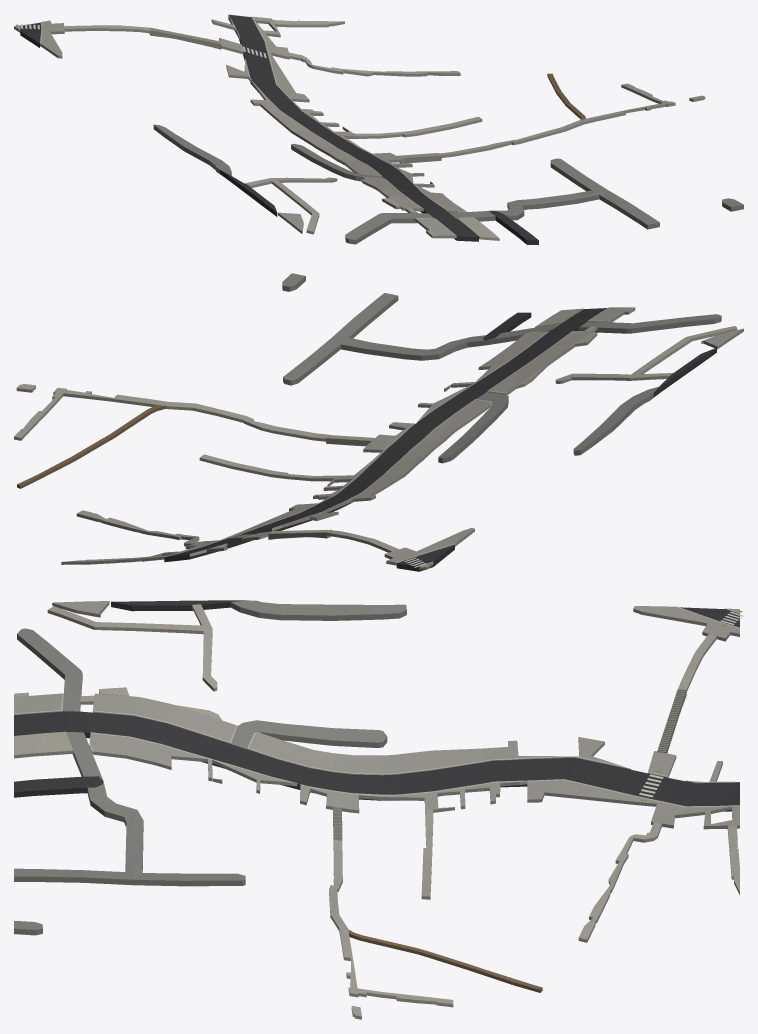
Rendered from 18-218892-118958.0b731cae.glb.
3 views of the same model, one above another, from view 1: azimuth 30°, elevation 25°; view 2: azimuth 150°, elevation 25°; view 3: azimuth 270°, elevation 25° (orthographic). The views are drawn at different scales.
Size of the model in its own units: 147 by 28.35 by 147.
